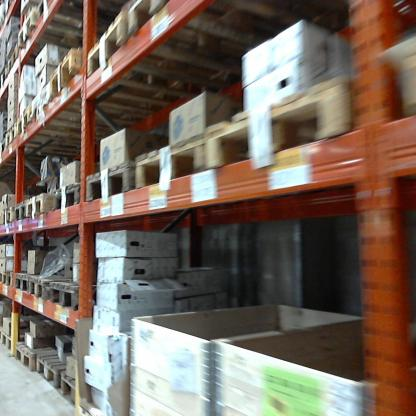pallet: (208, 70, 366, 191), (30, 46, 200, 130), (126, 103, 231, 225), (84, 9, 234, 90), (118, 2, 298, 43), (13, 106, 149, 148), (14, 8, 121, 59), (3, 124, 118, 163), (83, 151, 139, 222), (46, 277, 133, 318), (10, 340, 73, 386), (35, 343, 94, 391), (8, 46, 56, 89), (60, 360, 105, 401), (26, 268, 70, 302), (50, 175, 80, 221), (3, 326, 41, 357), (26, 191, 56, 224), (11, 266, 31, 295), (13, 195, 25, 232), (2, 205, 15, 233), (0, 268, 12, 293)
